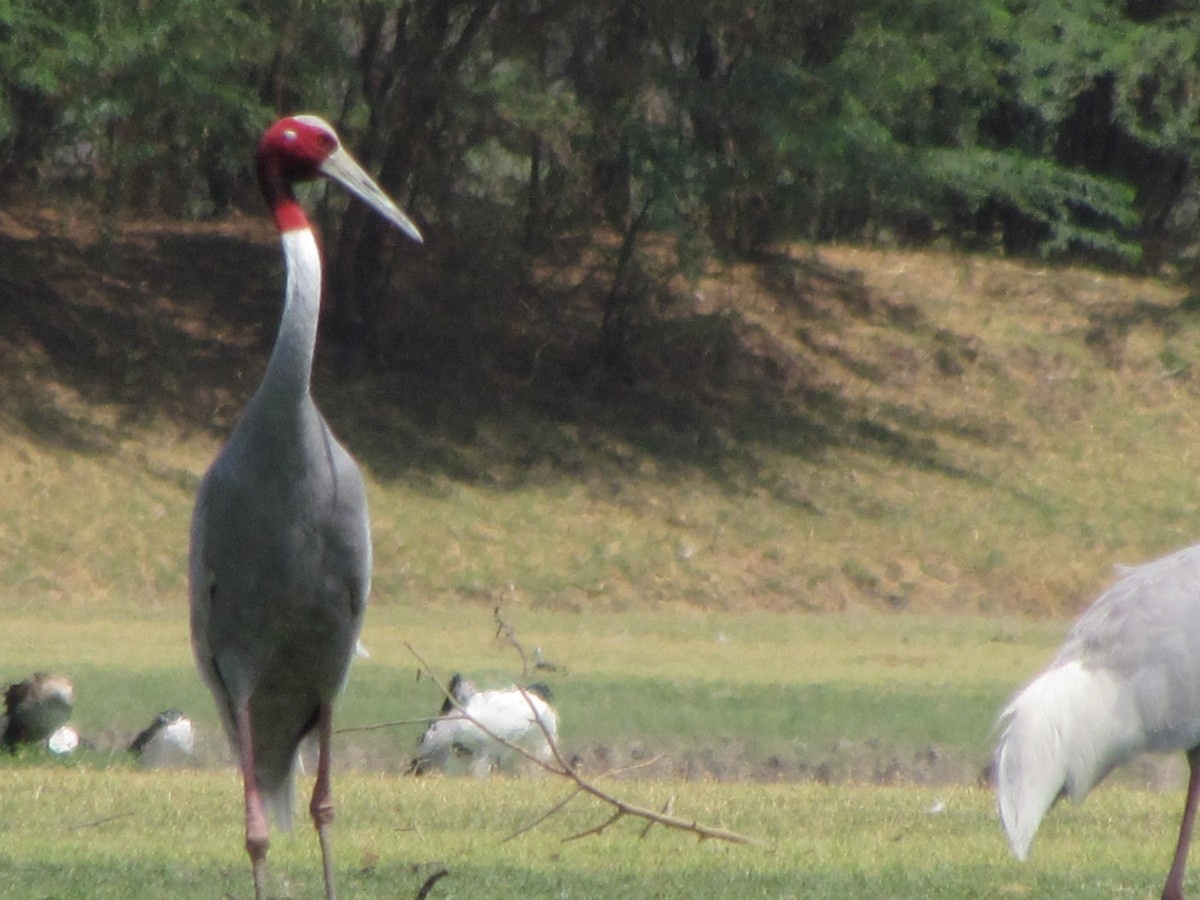crane: (175, 103, 427, 898)
